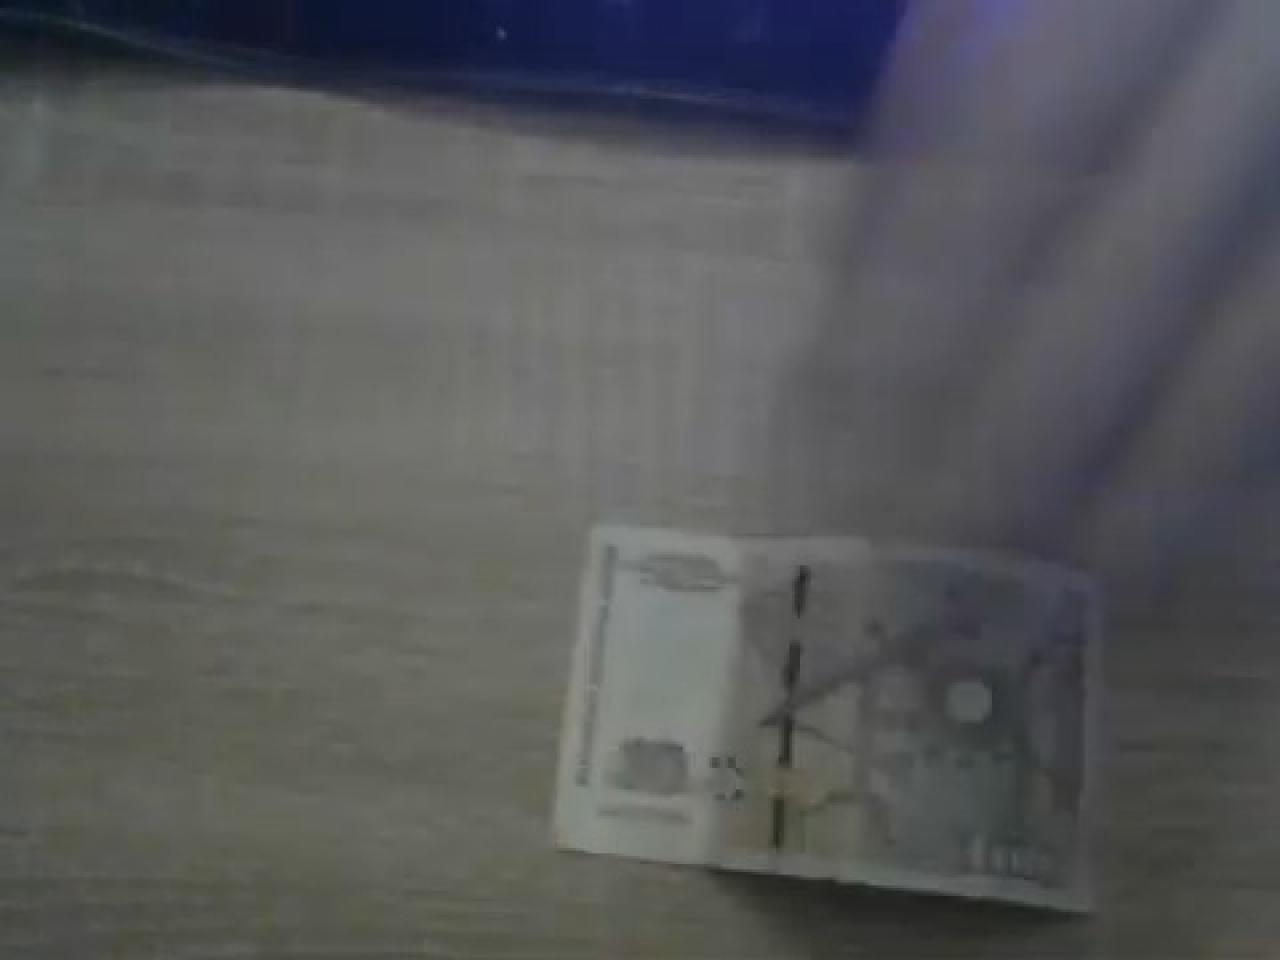10leva: (549, 525, 1110, 920)
